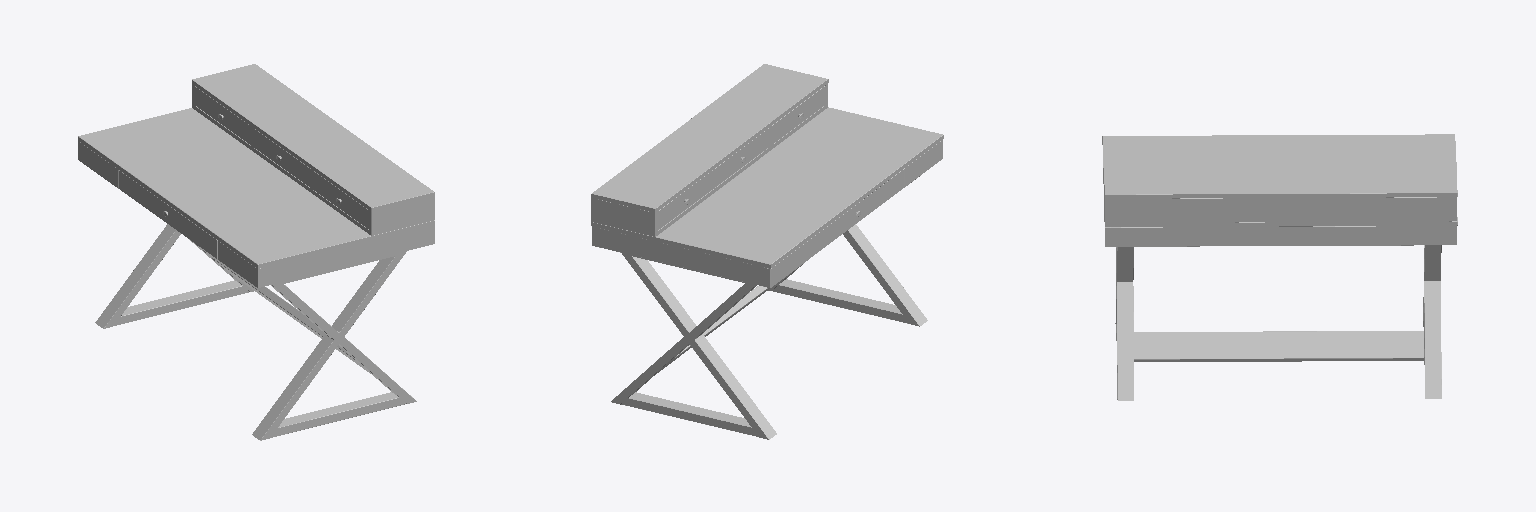
The model's file is GreydonDesk.obj.
3 views of the same model, side by side, from view 1: azimuth 30°, elevation 25°; view 2: azimuth 150°, elevation 25°; view 3: azimuth 270°, elevation 25° (orthographic).
Parts seen in each view (by area): view 1: Greydon_Desk; view 2: Greydon_Desk; view 3: Greydon_Desk.
Part boxes in pixels (x1,y1,x2,y2): Greydon_Desk: (78,64,434,440); Greydon_Desk: (591,64,943,439); Greydon_Desk: (1102,134,1457,400).
Bounding box in the file's own units: 78.92 × 87.31 × 133.